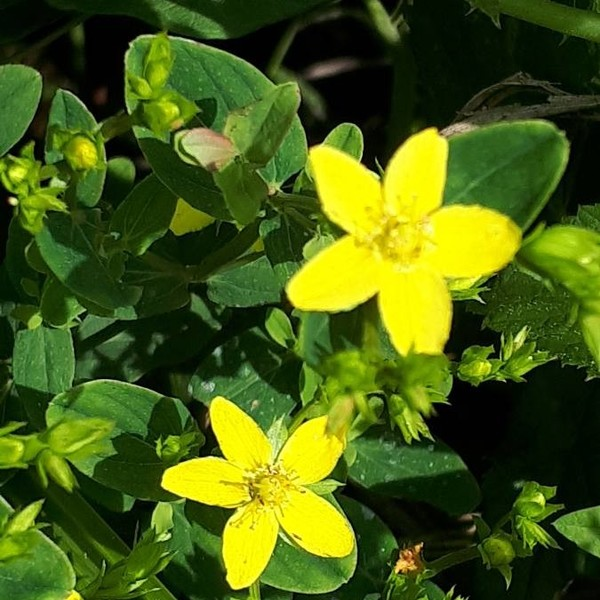obstacle: (119, 23, 553, 557)
